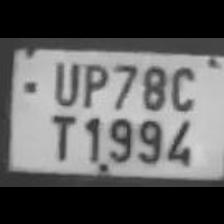1: (78, 110, 104, 162)
4: (162, 111, 196, 163)
7: (107, 57, 136, 109)
8: (138, 61, 167, 112)
9: (102, 112, 134, 162), (134, 113, 162, 162)
C: (166, 61, 198, 112)
P: (78, 57, 108, 109)
T: (43, 108, 77, 162)
U: (46, 57, 80, 104)
